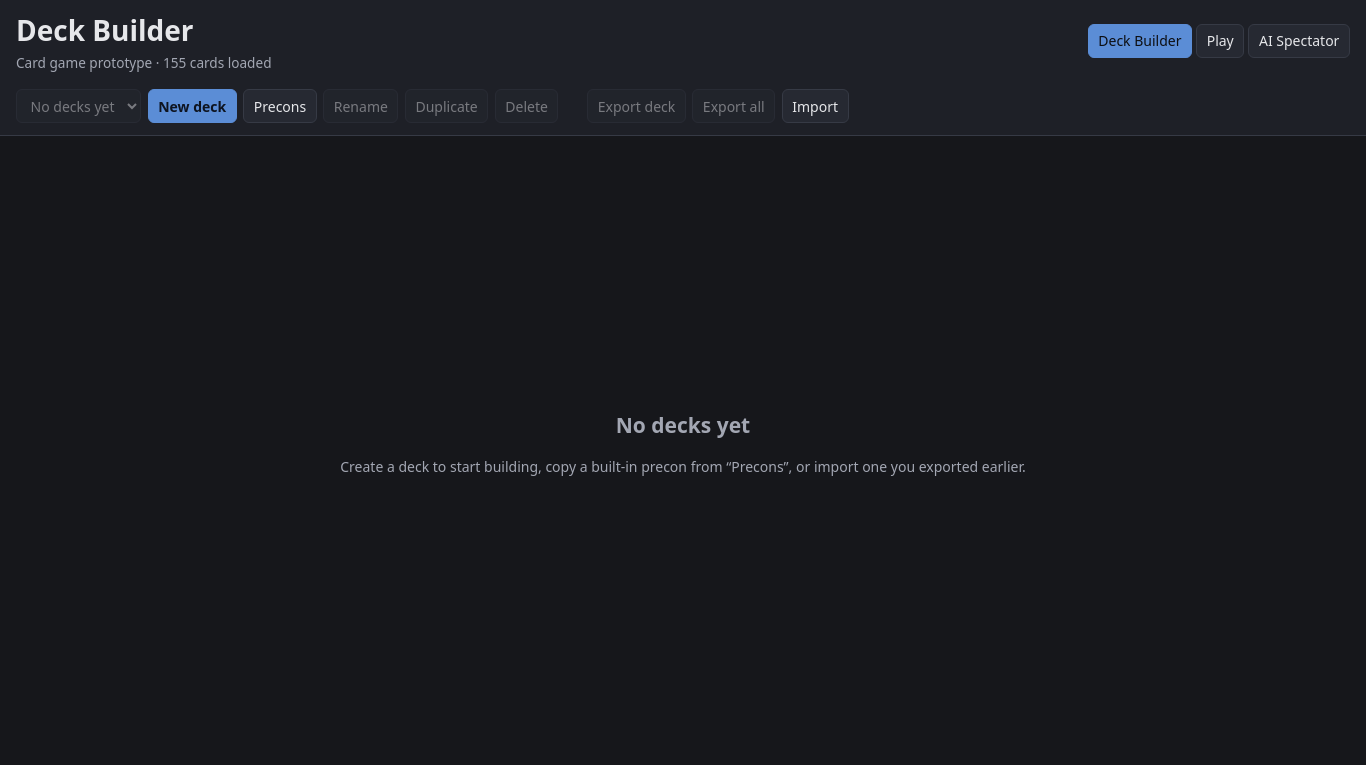
Test: rerolling before the match starts › is not offered for a bot playing an exact list
Click the button "Play": (1220, 41) [1196,24,1244,58]
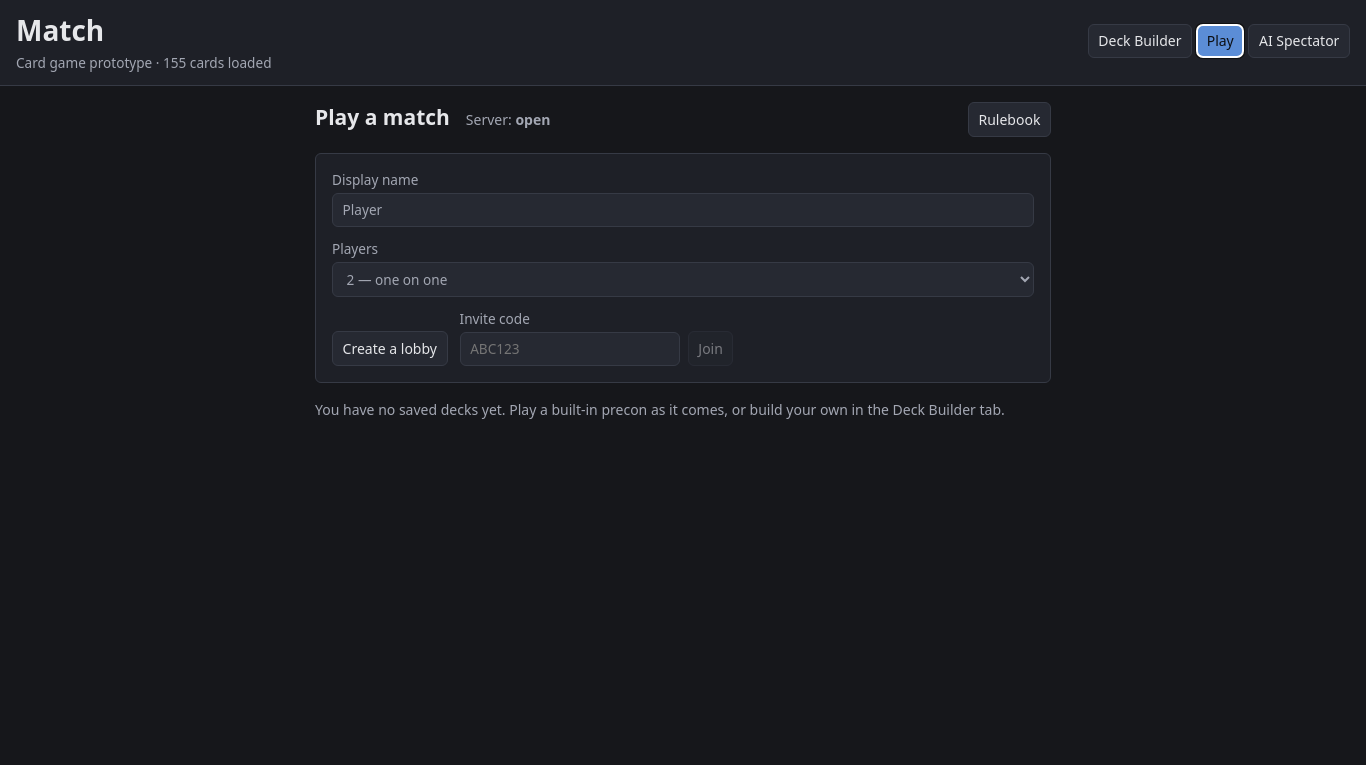
Click the button "Create a lobby": (390, 349) [332,332,448,366]
(page scrolled)
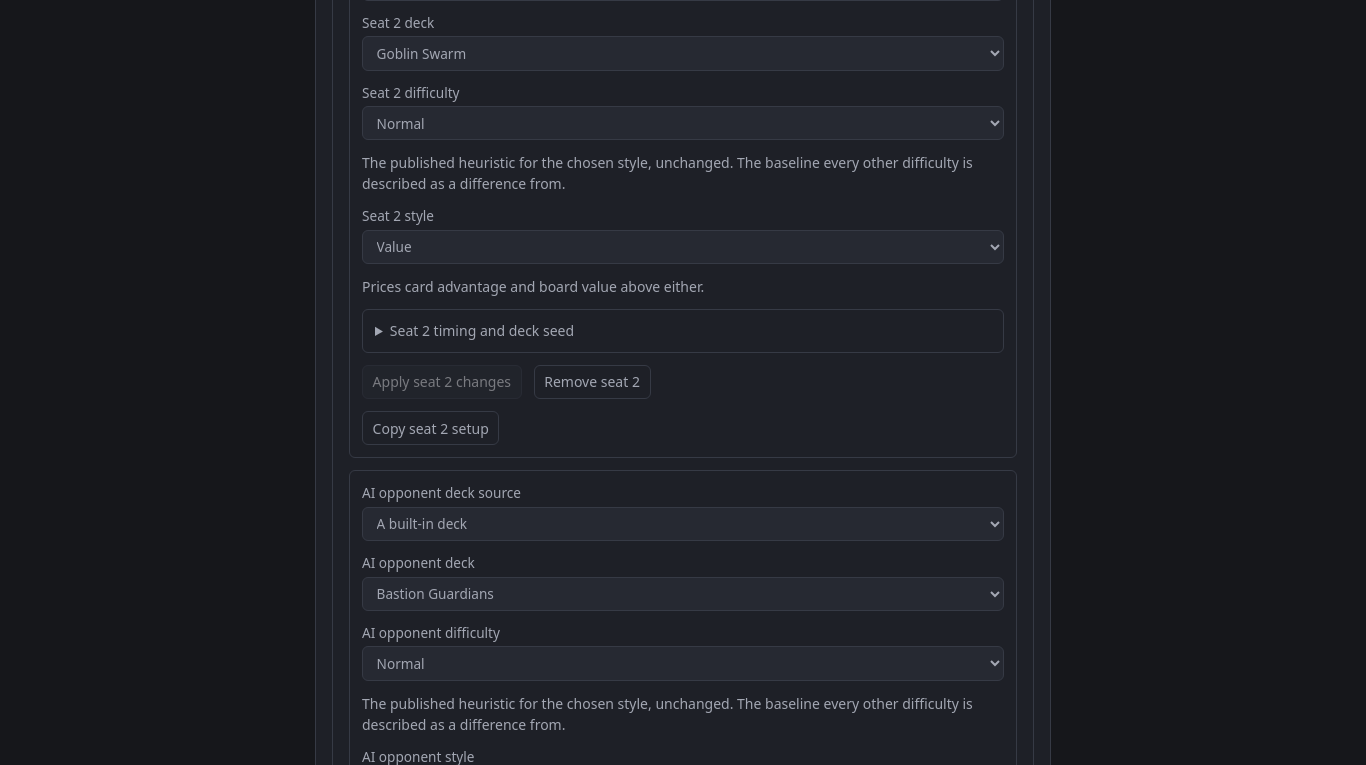
Expected: the button "Remove seat 2" is shown, [534,365,650,399]
